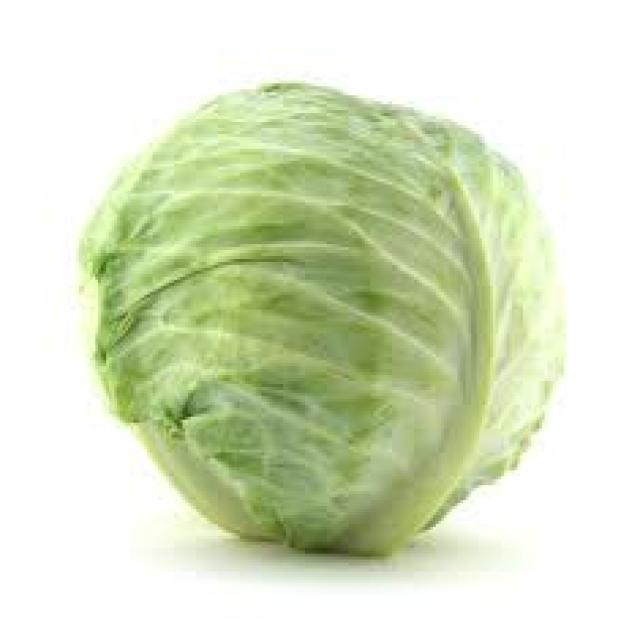cabbage: (66, 62, 566, 568)
